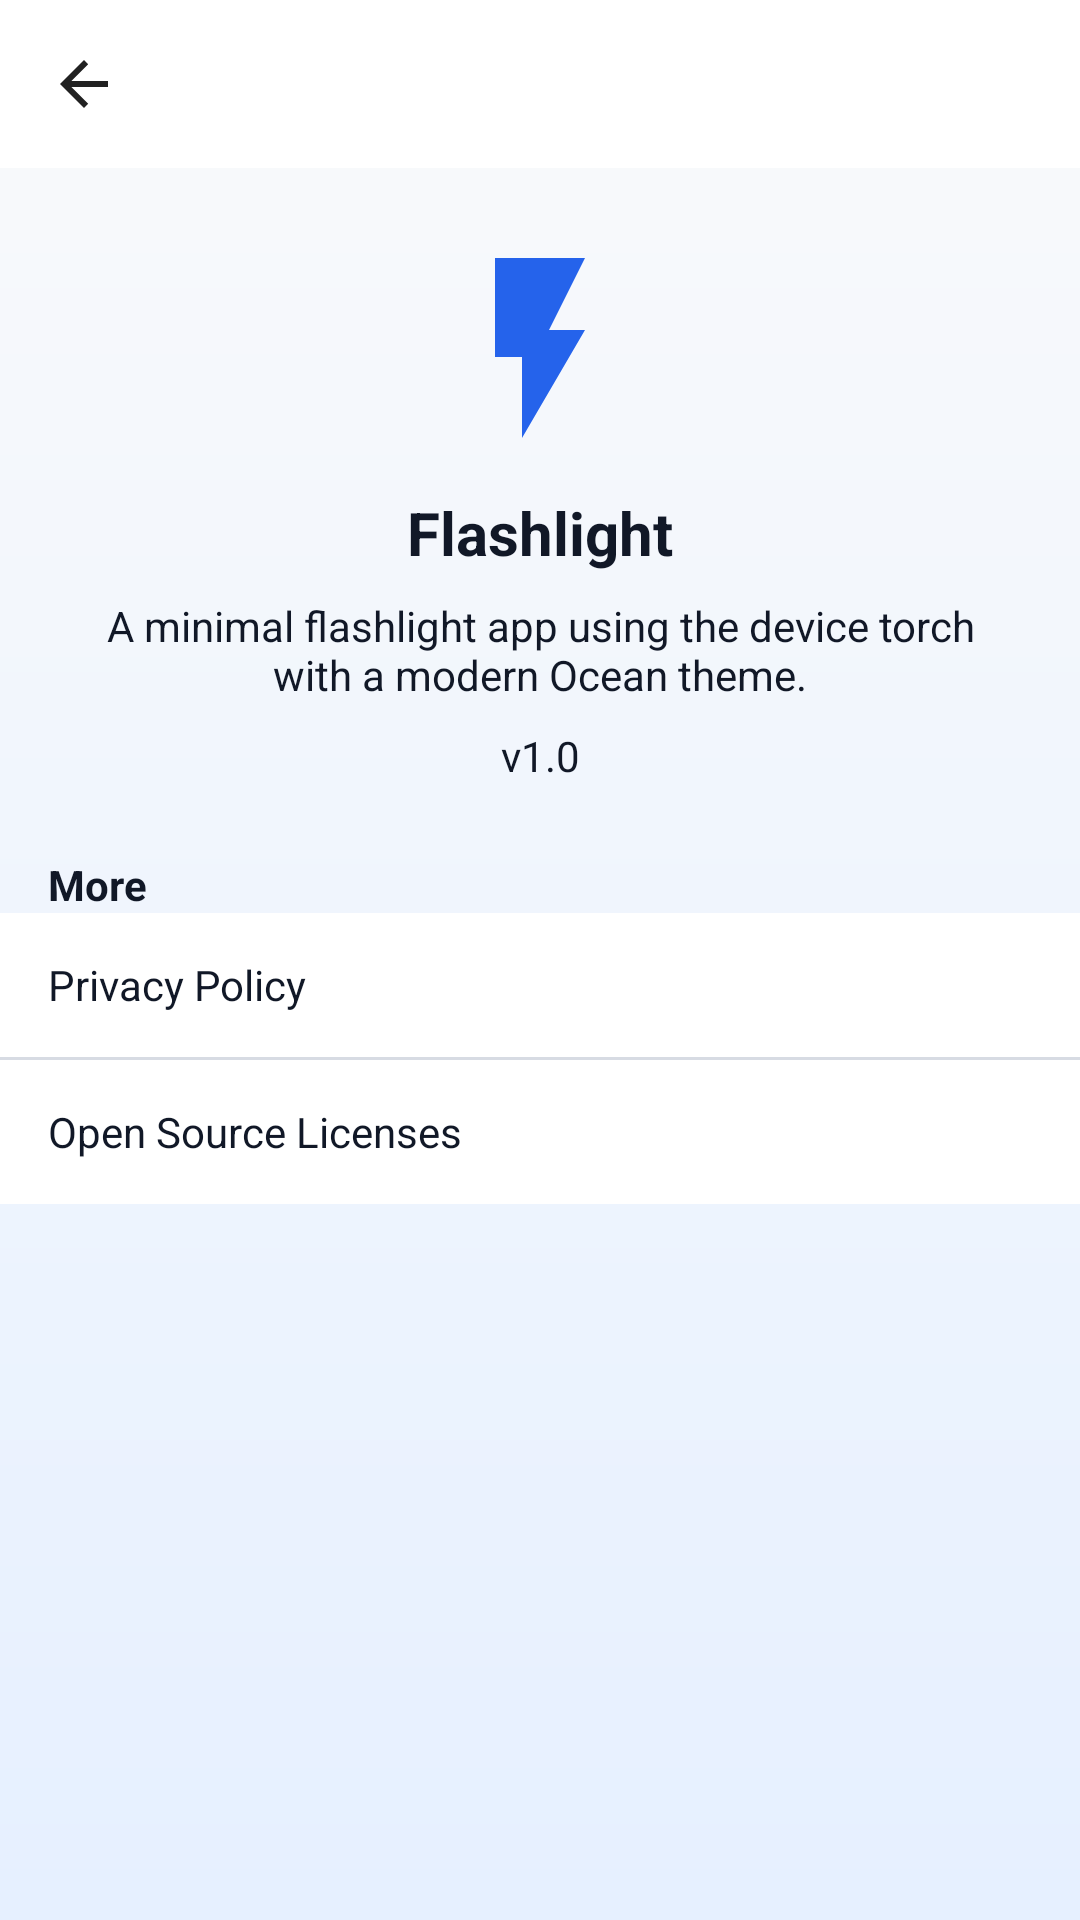

Screen size 1080*1920. Icon name, then its box in pixels as (x1, y1, x2, y2):
flash on: (495, 258, 585, 438)
